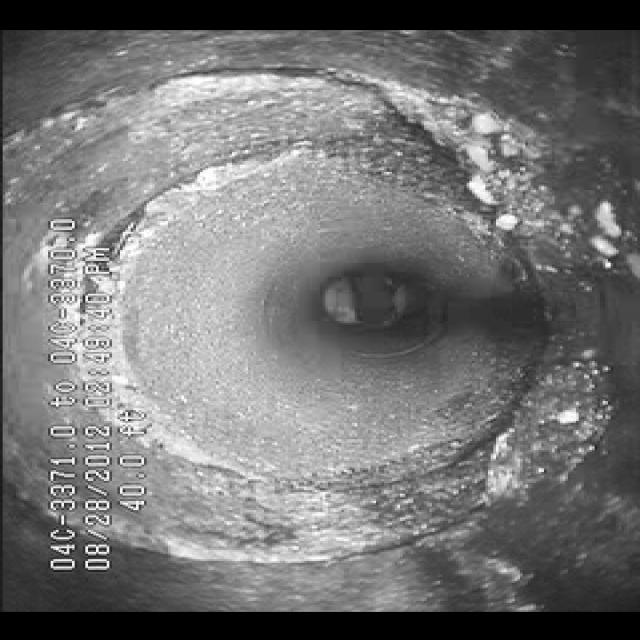Fracture: (89, 51, 536, 190), (217, 428, 530, 578)
